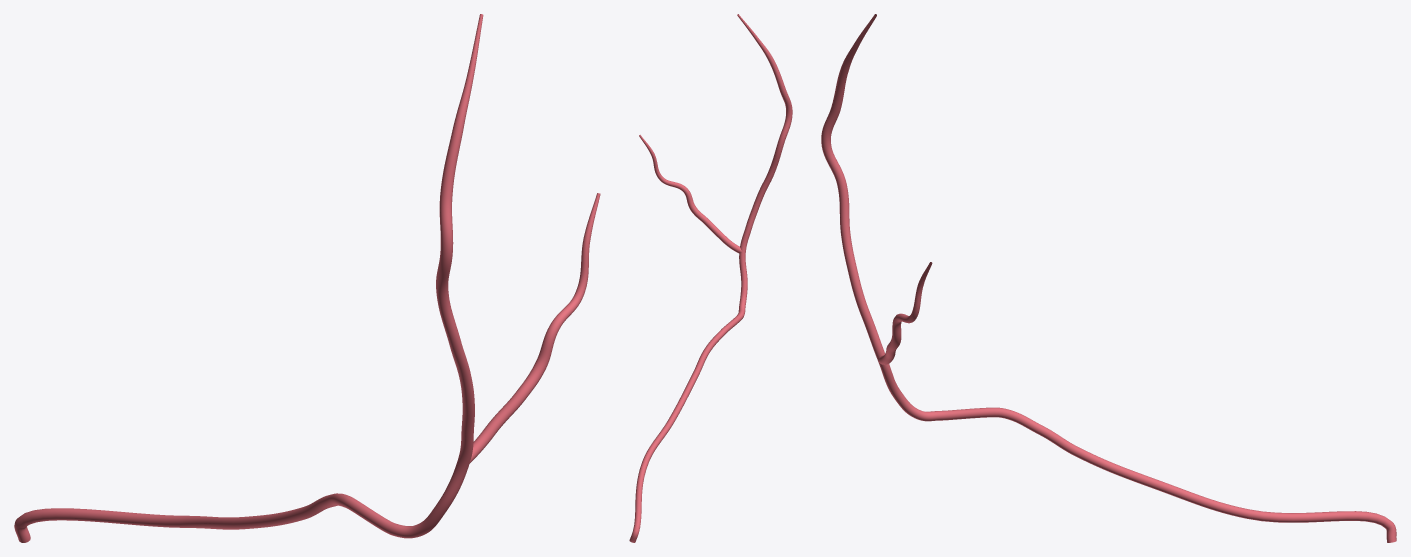
3 views of the same model, side by side, from view 1: azimuth 30°, elevation 25°; view 2: azimuth 150°, elevation 25°; view 3: azimuth 270°, elevation 25° (orthographic). The views are drawn at different scales.
Visible parts, largest first — view 1: ZA_b797bb039e5873f8; view 2: ZA_b797bb039e5873f8; view 3: ZA_b797bb039e5873f8.
Part boxes in pixels (<box>): ZA_b797bb039e5873f8: <box>14,14,600,542</box>; ZA_b797bb039e5873f8: <box>629,14,792,542</box>; ZA_b797bb039e5873f8: <box>821,14,1396,542</box>.
Bounding box in the file's own units: 0.019 × 0.0457 × 0.0413.
